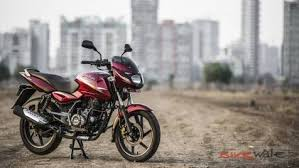bike: (17, 44, 163, 160)
